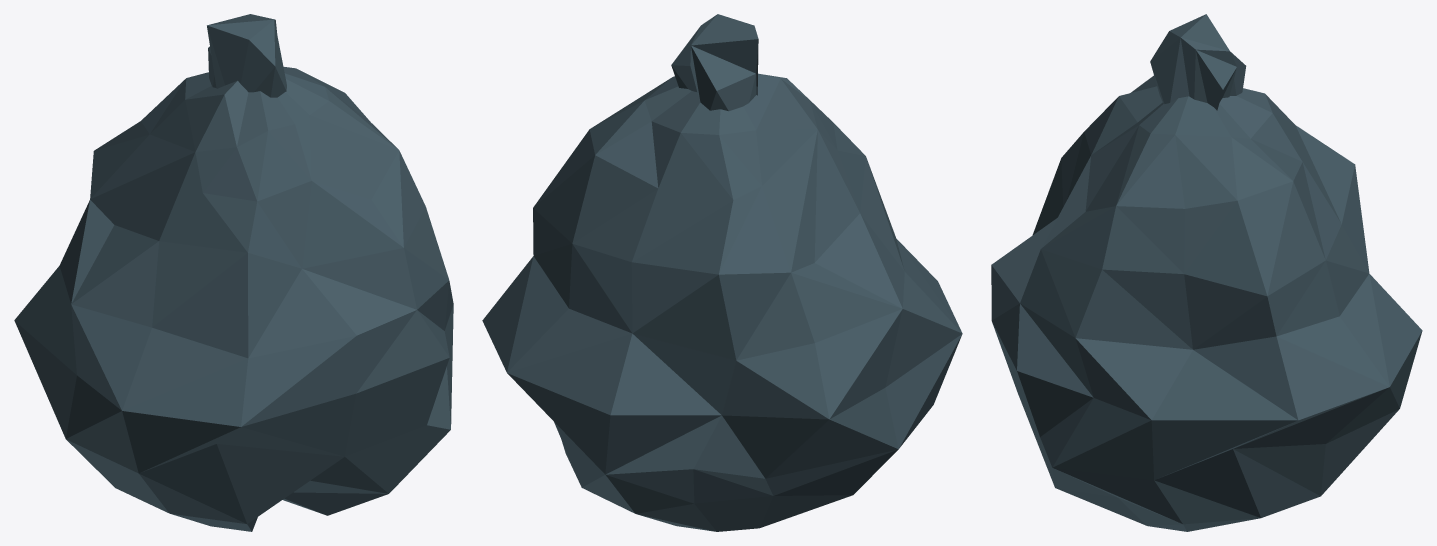
3 views of the same model, side by side, from view 1: azimuth 30°, elevation 25°; view 2: azimuth 150°, elevation 25°; view 3: azimuth 270°, elevation 25° (orthographic). The views are drawn at different scales.
Visible parts, largest first — view 1: mesh_623446649, group_1496845018; view 2: mesh_623446649, group_1496845018; view 3: mesh_623446649, group_1496845018.
Part boxes in pixels (box(x1,y1,x2,y2)): mesh_623446649: box(14, 66, 453, 531); group_1496845018: box(207, 14, 286, 97); mesh_623446649: box(482, 73, 962, 531); group_1496845018: box(671, 14, 758, 111); mesh_623446649: box(991, 75, 1422, 531); group_1496845018: box(1150, 14, 1246, 110).
Size of the model in its own units: 30.73 by 37.41 by 31.38.
